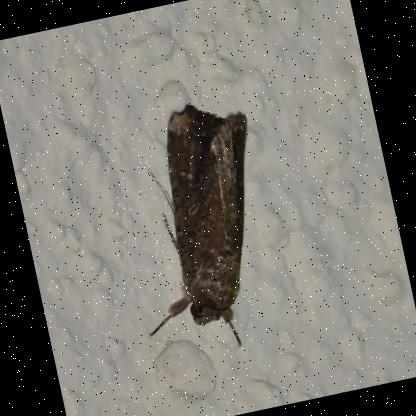Fall Armyworm Moth: (101, 88, 296, 366)
